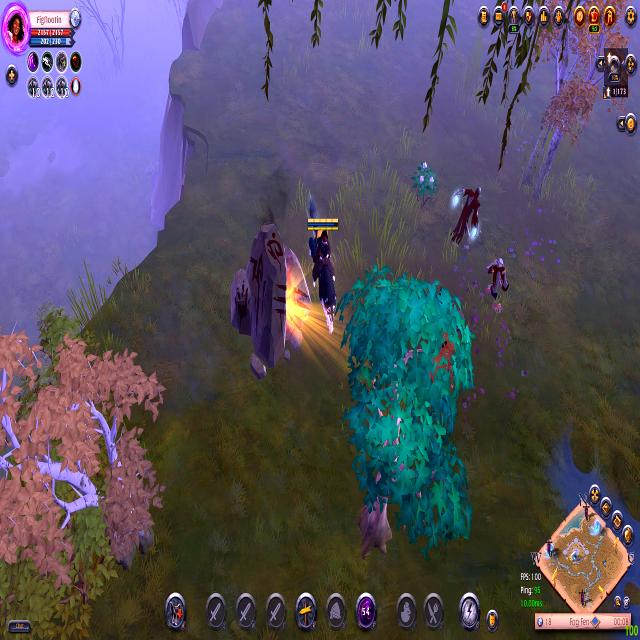hide: (411, 156, 440, 216)
ore: (445, 175, 487, 251), (428, 327, 458, 399), (481, 252, 512, 315)
red: (303, 188, 344, 350)
wisp caged: (339, 259, 478, 598), (0, 324, 165, 586), (520, 0, 633, 205)
